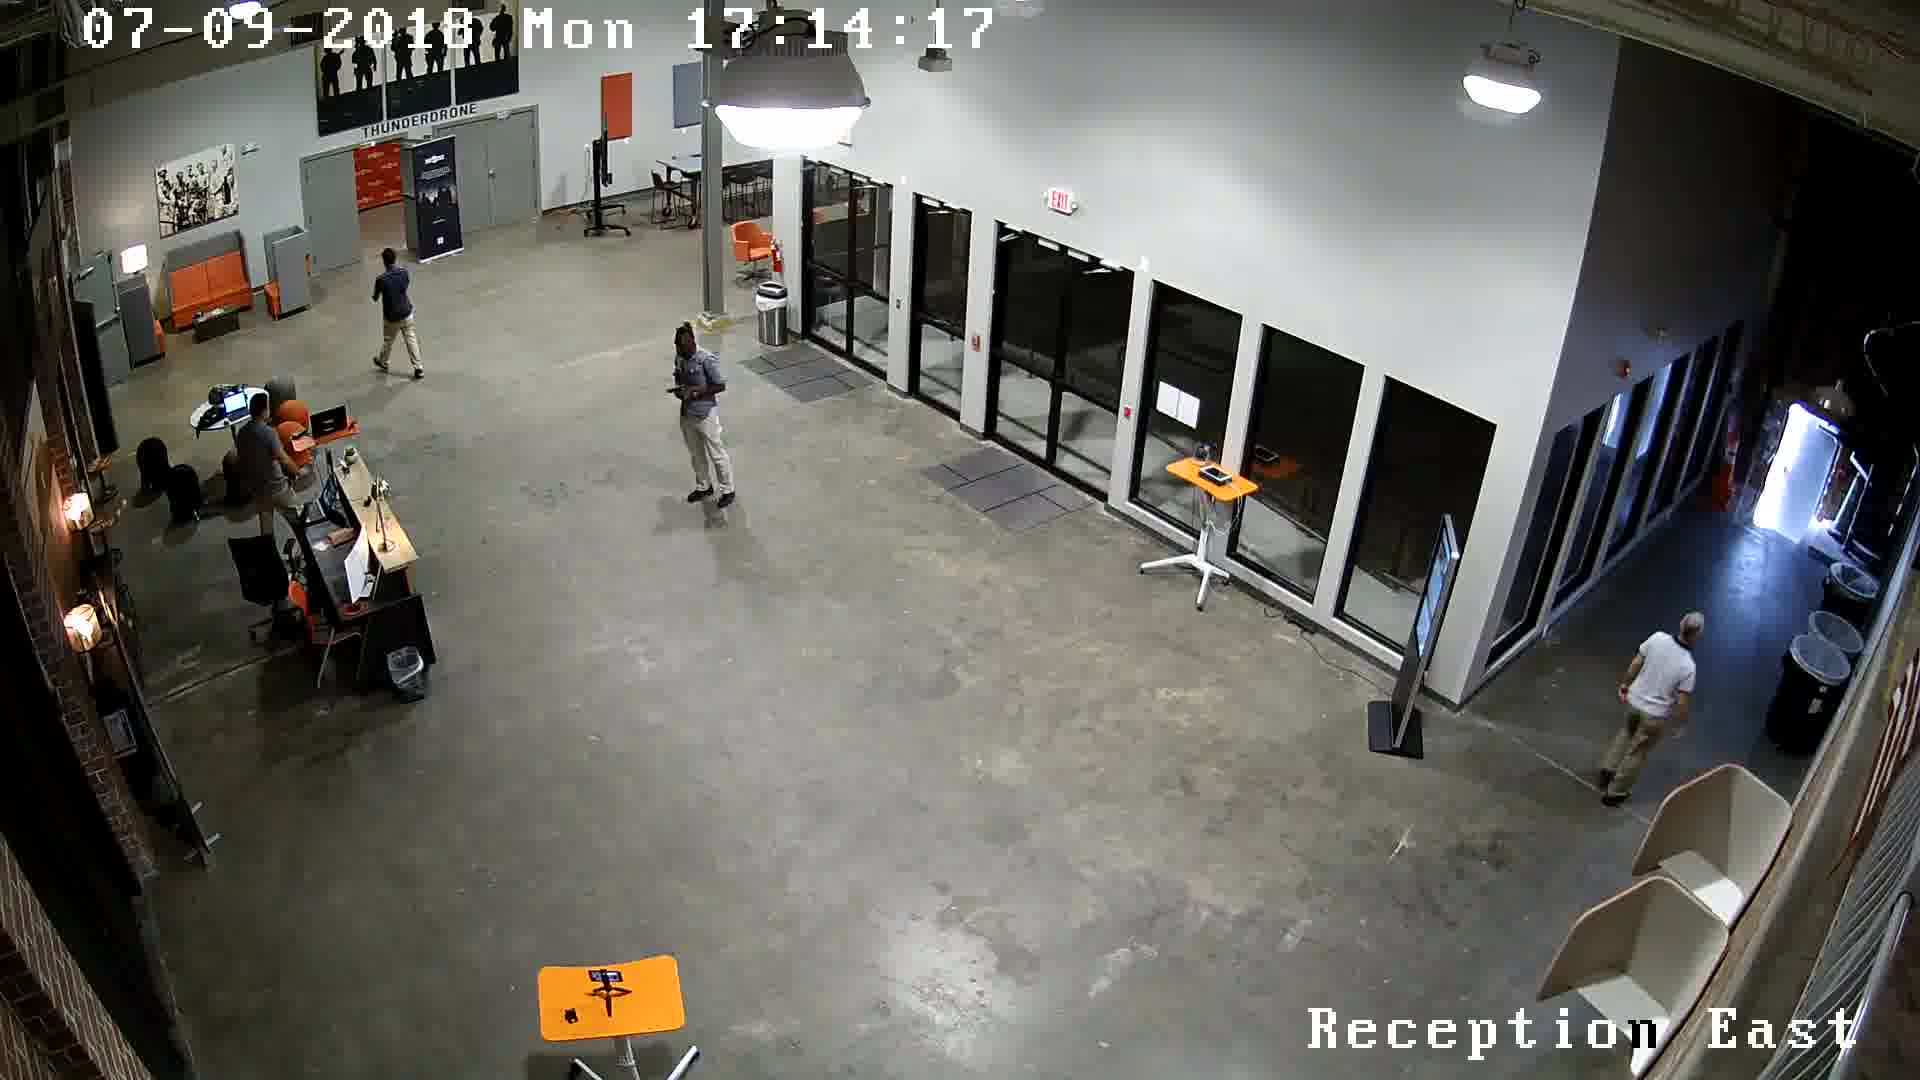pistol: (659, 385, 699, 410)
